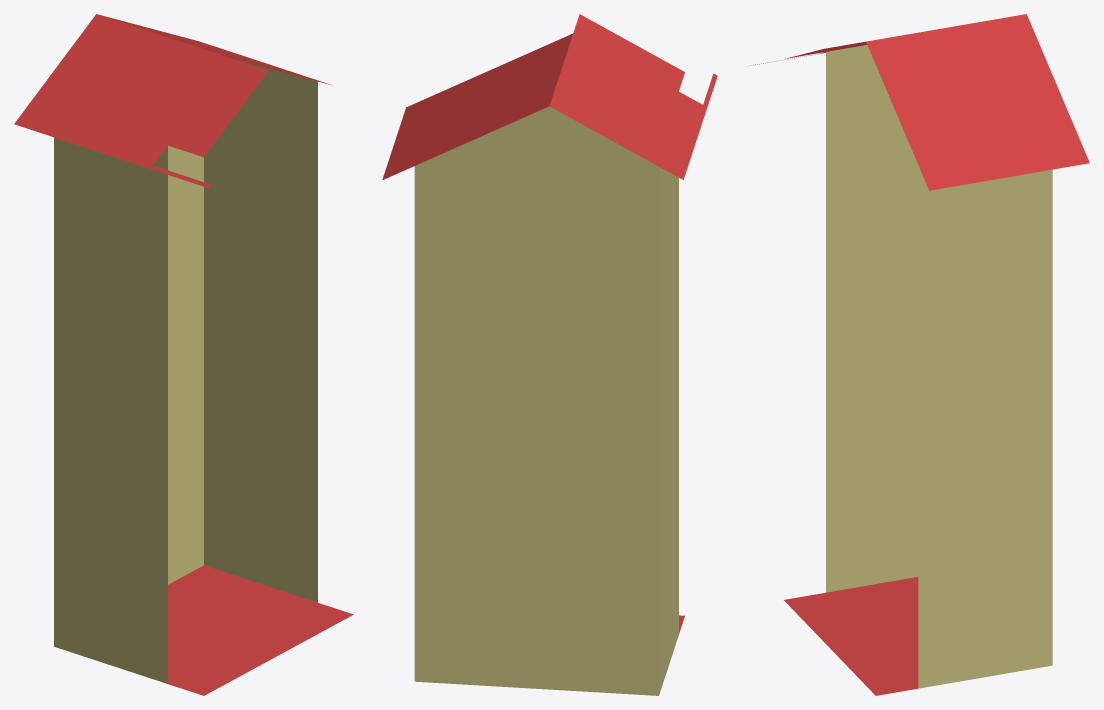
3 views of the same model, side by side, from view 1: azimuth 30°, elevation 25°; view 2: azimuth 150°, elevation 25°; view 3: azimuth 270°, elevation 25° (orthographic).
Bounding box in the file's own units: 6.02 × 5.99 × 11.38.
